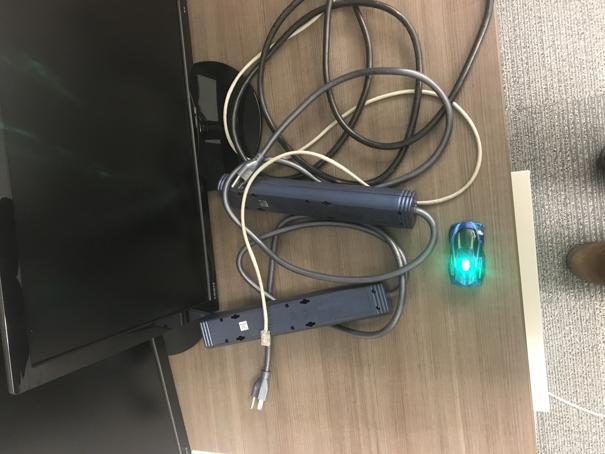Shock: (447, 219, 487, 287)
